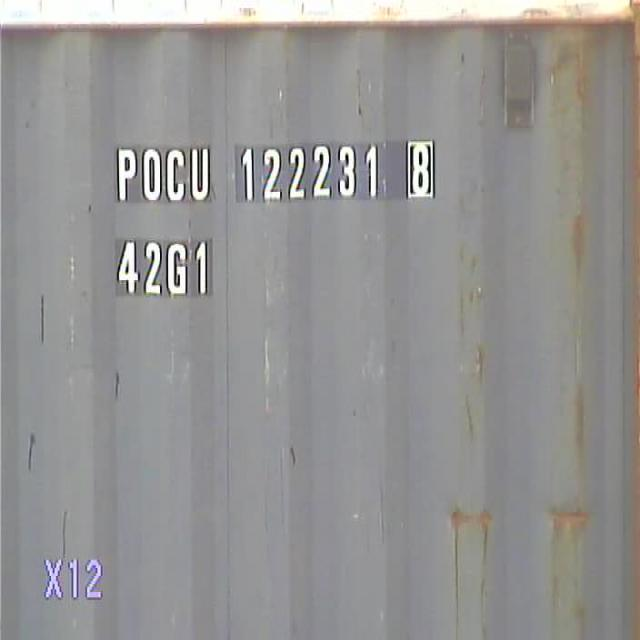container_number_h: (82, 117, 465, 339)
